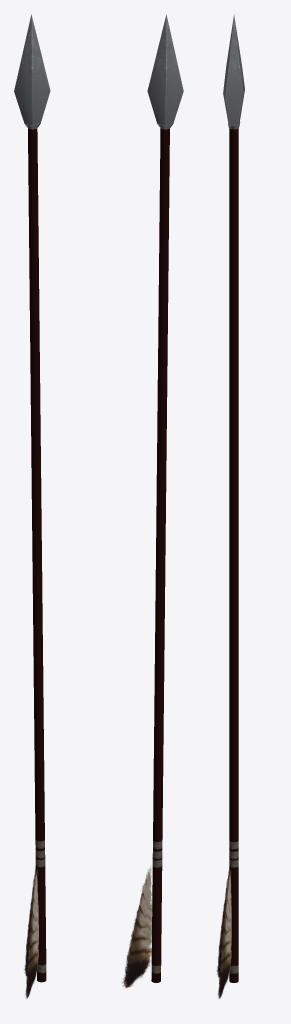
The model's file is arrow.glb.
3 views of the same model, side by side, from view 1: azimuth 30°, elevation 25°; view 2: azimuth 210°, elevation 25°; view 3: azimuth 270°, elevation 25° (orthographic).
Visible parts, largest first — view 1: arrow_arrow_mt_0, arrow_wing_mt_0; view 2: arrow_arrow_mt_0, arrow_wing_mt_0; view 3: arrow_arrow_mt_0, arrow_wing_mt_0.
Boxes of the visible parts, box(x1,y1,x2,y2) form: arrow_arrow_mt_0: box(14, 14, 50, 982); arrow_wing_mt_0: box(24, 868, 38, 998); arrow_arrow_mt_0: box(147, 14, 183, 982); arrow_wing_mt_0: box(122, 866, 152, 987); arrow_arrow_mt_0: box(223, 14, 244, 982); arrow_wing_mt_0: box(216, 870, 231, 998).
Bounding box in the file's own units: 0.062 × 0.9 × 0.0542.
2 materials, 2 textured.
